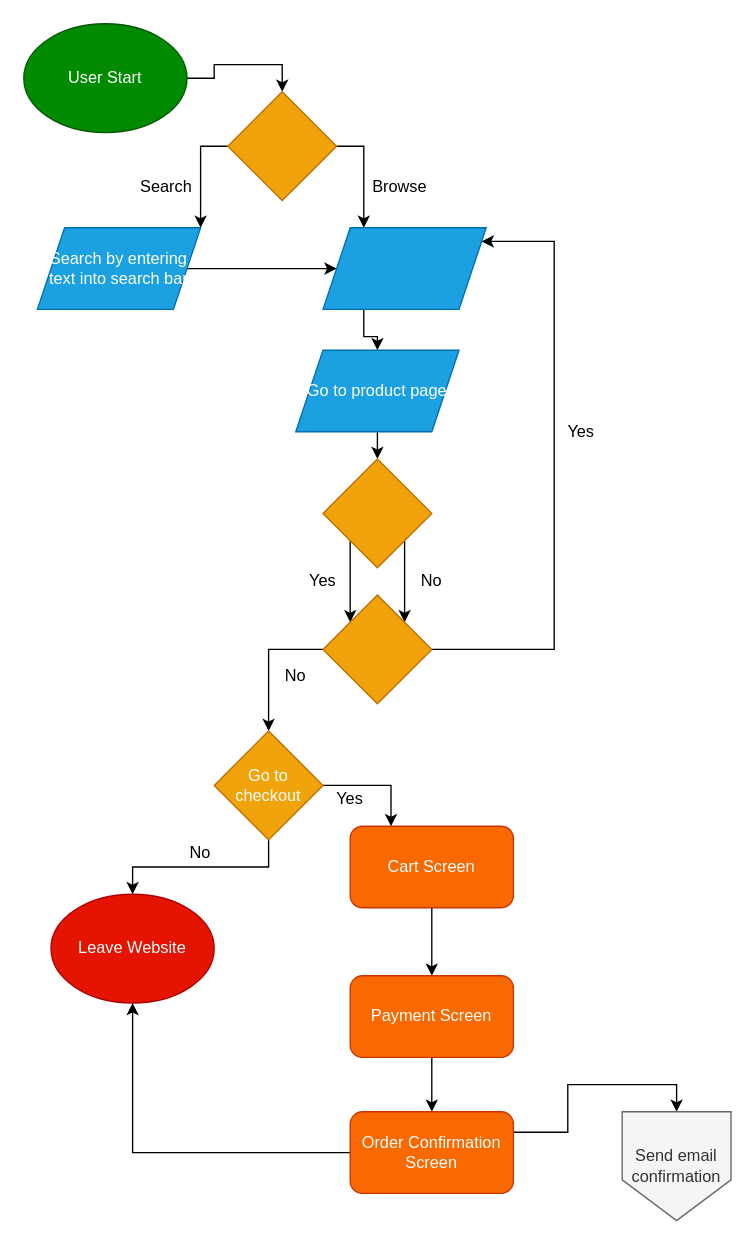
This 755x1244 diagram has some shape labels left out. Each missing label, with the centre of its shape:
Add to cart: (x=377, y=513)
Choose a product: (x=404, y=267)
Continue shopping: (x=377, y=649)
Search or browse?: (x=281, y=145)
